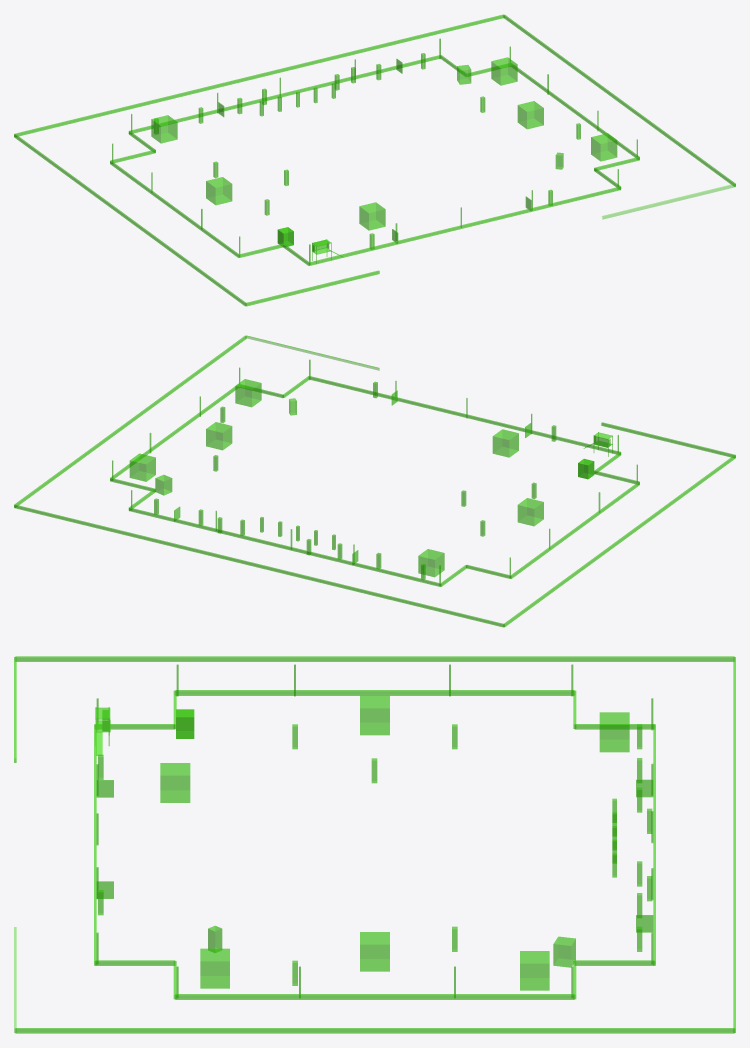
Rendered from track_01_collider.glb.
3 renders of one model, top to bottom at view 1: azimuth 30°, elevation 25°; view 2: azimuth 150°, elevation 25°; view 3: azimuth 270°, elevation 25°, orthographic. The views are drawn at different scales.
Parts seen in each view (by area): view 1: Box_collider.165_collider, Box_collider.154_collider, Box_collider.155_collider, Box_collider.163_collider, Box_collider.164_collider, Box_collider.166_collider, light0_collider, Box_collider.152_collider, Box_collider.074_collider, Box_collider.071_collider, Box_collider.075_collider, Box_collider.073_collider (+3 smaller); view 2: Box_collider.165_collider, Box_collider.155_collider, Box_collider.154_collider, Box_collider.163_collider, Box_collider.164_collider, Box_collider.166_collider, light0_collider, Box_collider.152_collider, Box_collider.073_collider, Box_collider.075_collider, Box_collider.074_collider, Box_collider.071_collider (+3 smaller); view 3: Box_collider.164_collider, Box_collider.163_collider, Box_collider.153_collider, Box_collider.152_collider, light0_collider, Box_collider.074_collider, Box_collider.067_collider, Box_collider.075_collider, Box_collider.071_collider, Box_collider.073_collider, Box_collider.072_collider, Box_collider.165_collider (+5 smaller).
Boxes of the visible parts, bbox=[...] form: Box_collider.165_collider: bbox=[14, 14, 504, 136]; Box_collider.154_collider: bbox=[309, 186, 620, 265]; Box_collider.155_collider: bbox=[129, 55, 439, 133]; Box_collider.163_collider: bbox=[14, 134, 246, 306]; Box_collider.164_collider: bbox=[503, 14, 735, 186]; Box_collider.166_collider: bbox=[245, 184, 735, 306]; light0_collider: bbox=[112, 38, 637, 263]; Box_collider.152_collider: bbox=[110, 161, 239, 257]; Box_collider.074_collider: bbox=[151, 115, 177, 143]; Box_collider.071_collider: bbox=[591, 133, 617, 161]; Box_collider.075_collider: bbox=[206, 177, 232, 205]; Box_collider.073_collider: bbox=[491, 57, 517, 85]; Box_collider.165_collider: bbox=[14, 505, 504, 627]; Box_collider.155_collider: bbox=[129, 507, 440, 586]; Box_collider.154_collider: bbox=[310, 376, 620, 454]; Box_collider.163_collider: bbox=[503, 455, 735, 627]; Box_collider.164_collider: bbox=[14, 335, 246, 507]; Box_collider.166_collider: bbox=[245, 335, 735, 457]; light0_collider: bbox=[112, 359, 637, 584]; Box_collider.152_collider: bbox=[510, 482, 639, 578]; Box_collider.073_collider: bbox=[129, 453, 155, 481]; Box_collider.075_collider: bbox=[517, 498, 543, 526]; Box_collider.074_collider: bbox=[418, 549, 444, 577]; Box_collider.071_collider: bbox=[235, 379, 261, 407]; Box_collider.164_collider: bbox=[15, 1028, 734, 1033]; Box_collider.163_collider: bbox=[15, 656, 734, 661]; Box_collider.153_collider: bbox=[175, 994, 574, 999]; Box_collider.152_collider: bbox=[175, 690, 574, 695]; light0_collider: bbox=[96, 664, 653, 997]; Box_collider.074_collider: bbox=[599, 712, 629, 752]; Box_collider.067_collider: bbox=[160, 763, 190, 802]; Box_collider.075_collider: bbox=[360, 695, 389, 735]; Box_collider.071_collider: bbox=[200, 948, 229, 988]; Box_collider.073_collider: bbox=[520, 951, 549, 990]; Box_collider.072_collider: bbox=[360, 932, 389, 971]; Box_collider.165_collider: bbox=[733, 657, 735, 1032].
Bounding box in the file's own units: 177 × 7.51 × 145.
